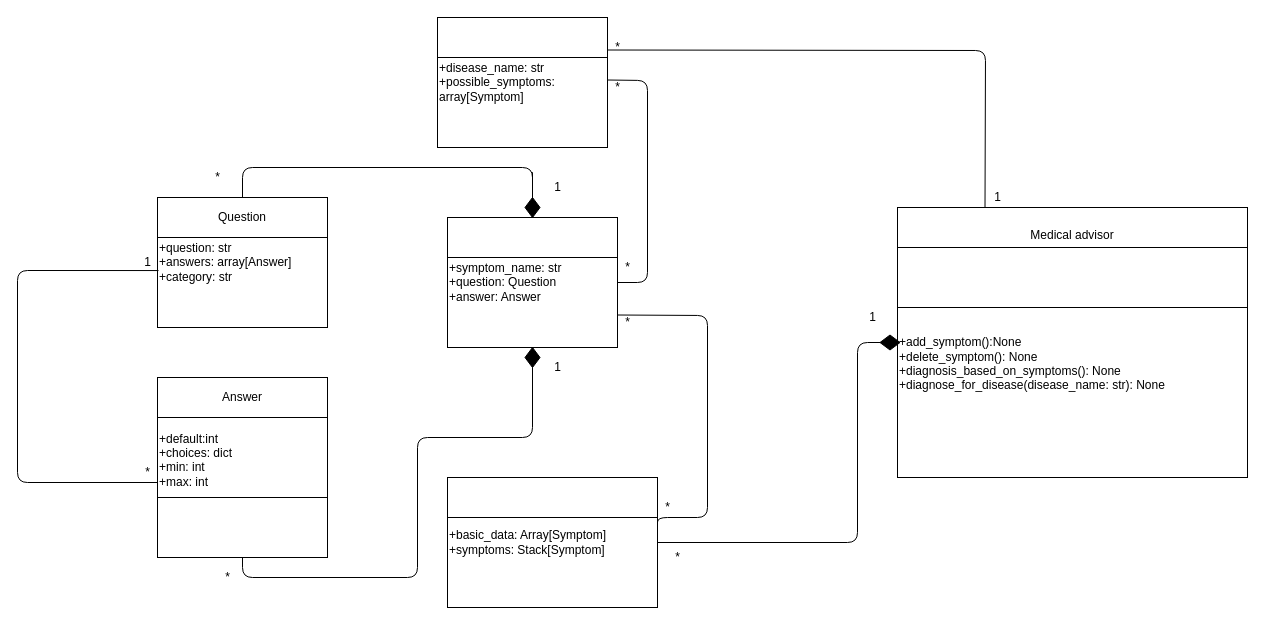
This 1265x625 diagram has some shape labels left out. Each missing label, with the centre of its shape:
"+is_correct_answer(): bool" goes at [242,527].
"+patient: Patient +diseases: array[Disease]" goes at [1072,277].
"Disease" goes at [522,37].
"Patient" goes at [552,497].
"Symptom" goes at [532,237].
